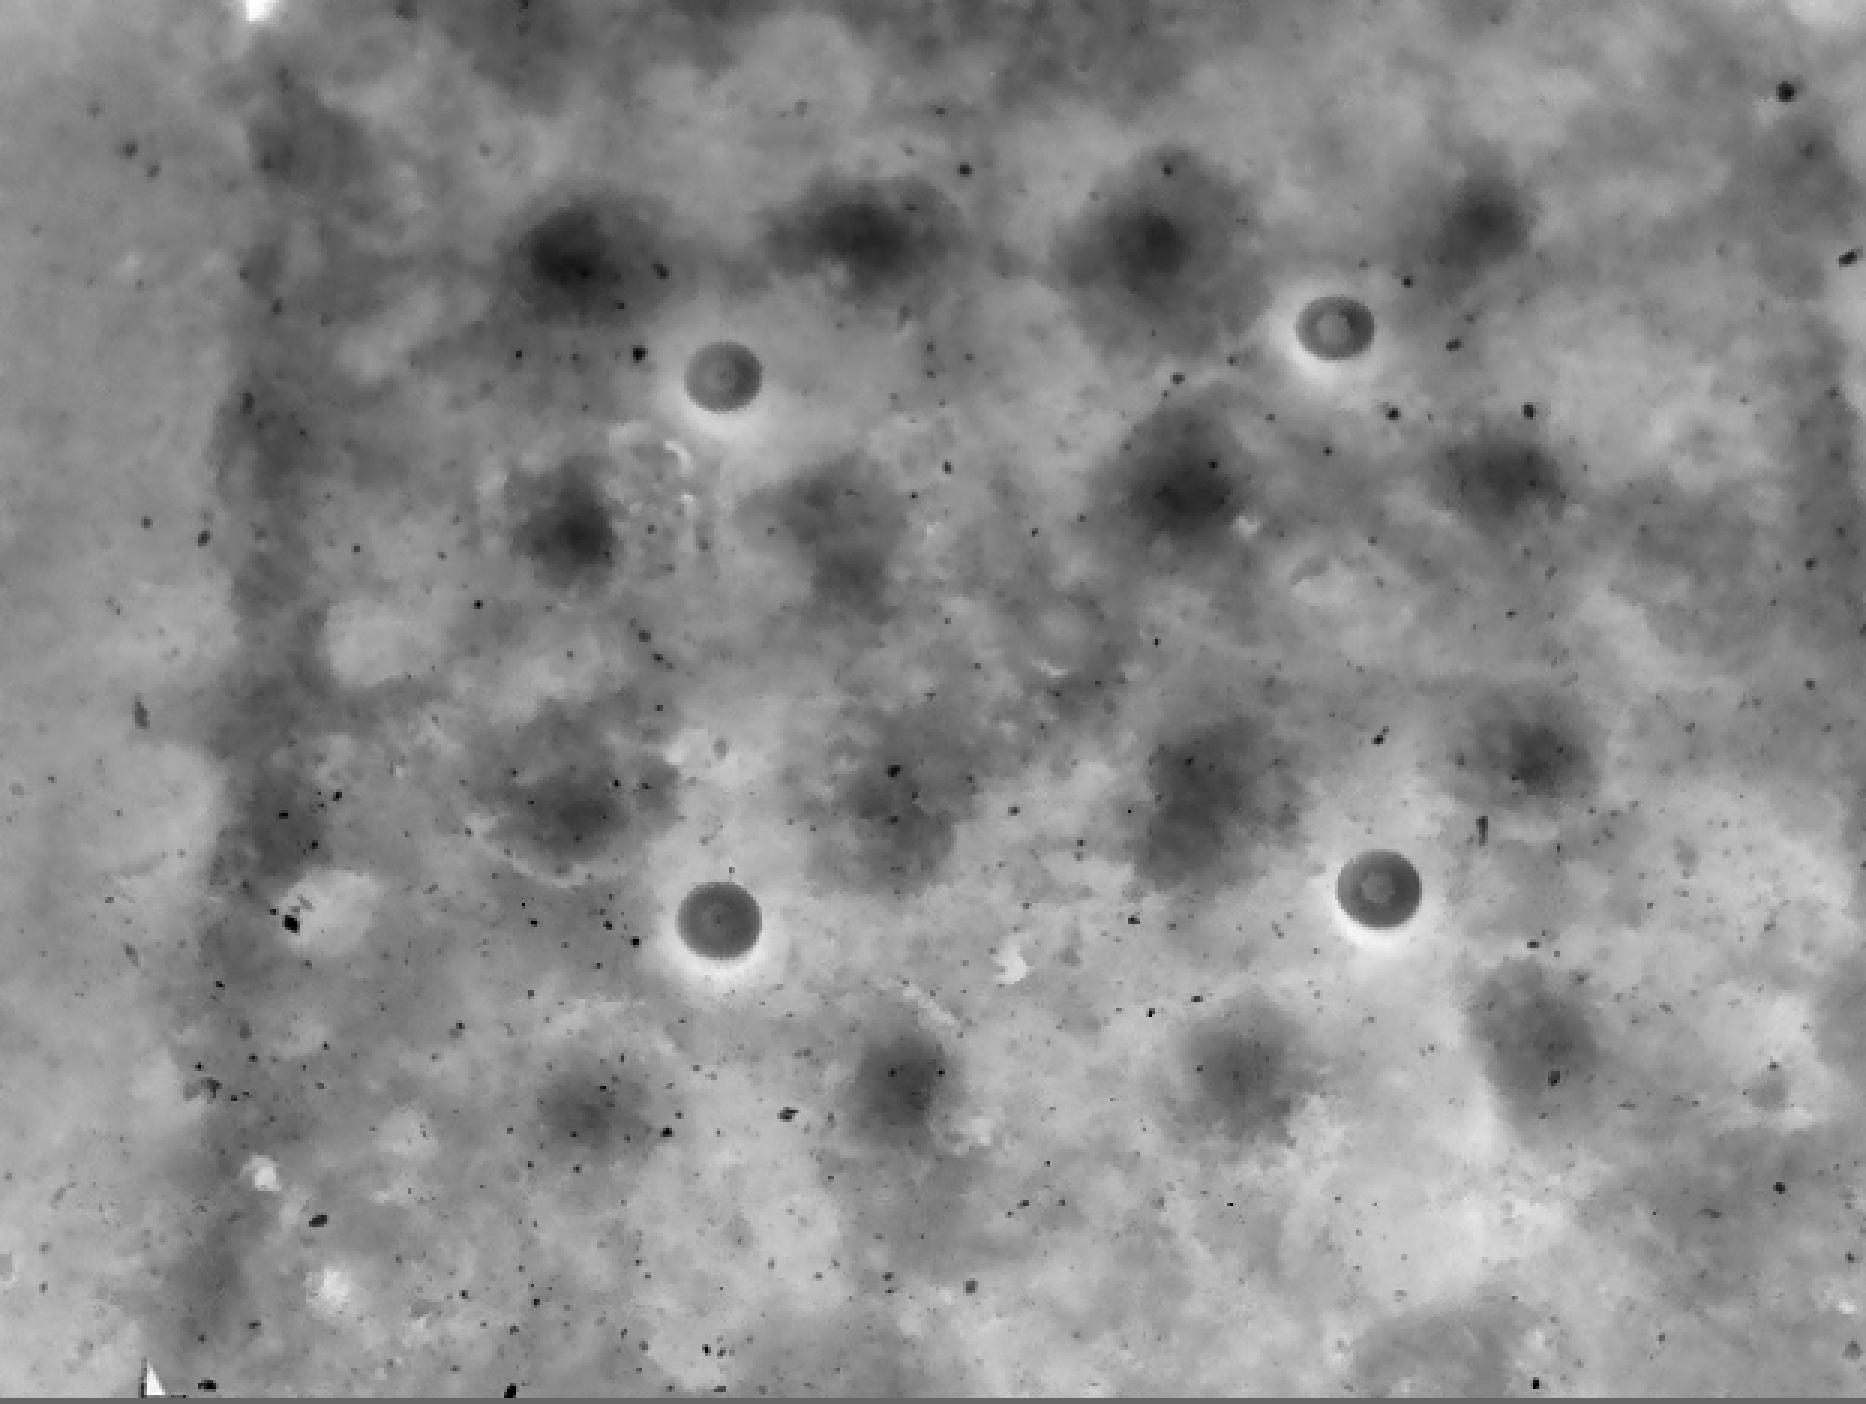mines-gjV8: (684, 338, 769, 419), (684, 885, 769, 957), (1342, 848, 1421, 925), (1303, 295, 1370, 363)
